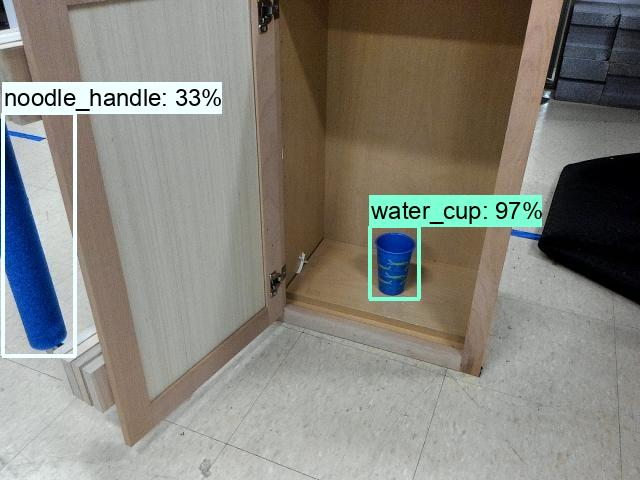noodle_handle: (1, 122, 72, 356)
water_cup: (371, 226, 416, 299)
